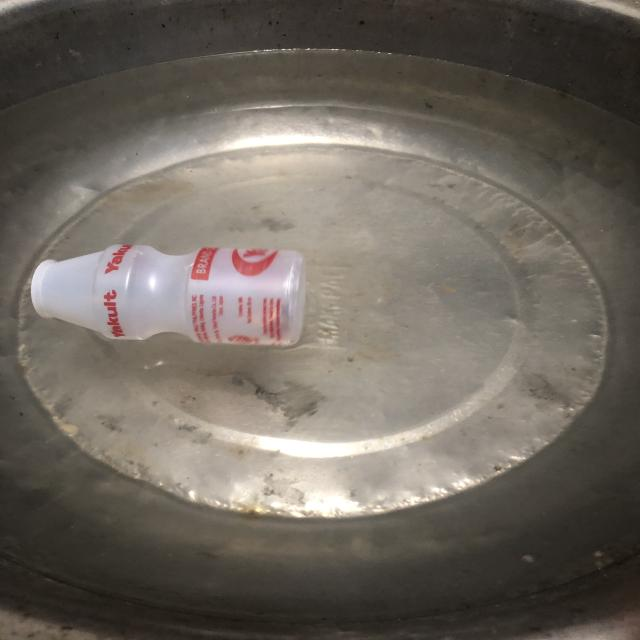Plastic Bottle: (0, 211, 337, 365)
